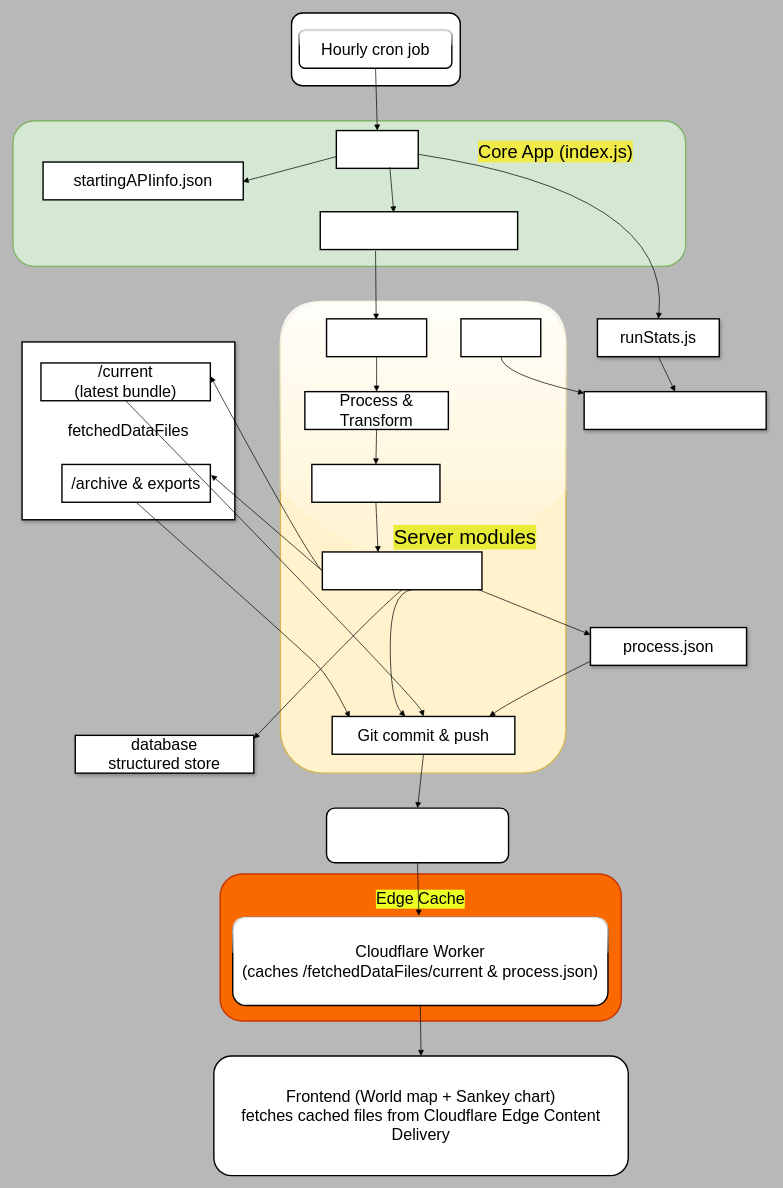
This 783x1188 diagram has some shape labels left out. The centre of each missing label's shape, as x and y in pixels:
"Fetch HTTP" goes at (x=376, y=337).
"File & DB I/O" goes at (x=401, y=570).
"index.js" goes at (x=377, y=149).
"Logging" goes at (x=500, y=337).
"logs run logs & metrics" goes at (x=675, y=411).
"Remote GitHub repo (commit + push)" goes at (x=417, y=835).
"server_modules/*" goes at (x=418, y=230).
"Validate schemas" goes at (x=375, y=483).
